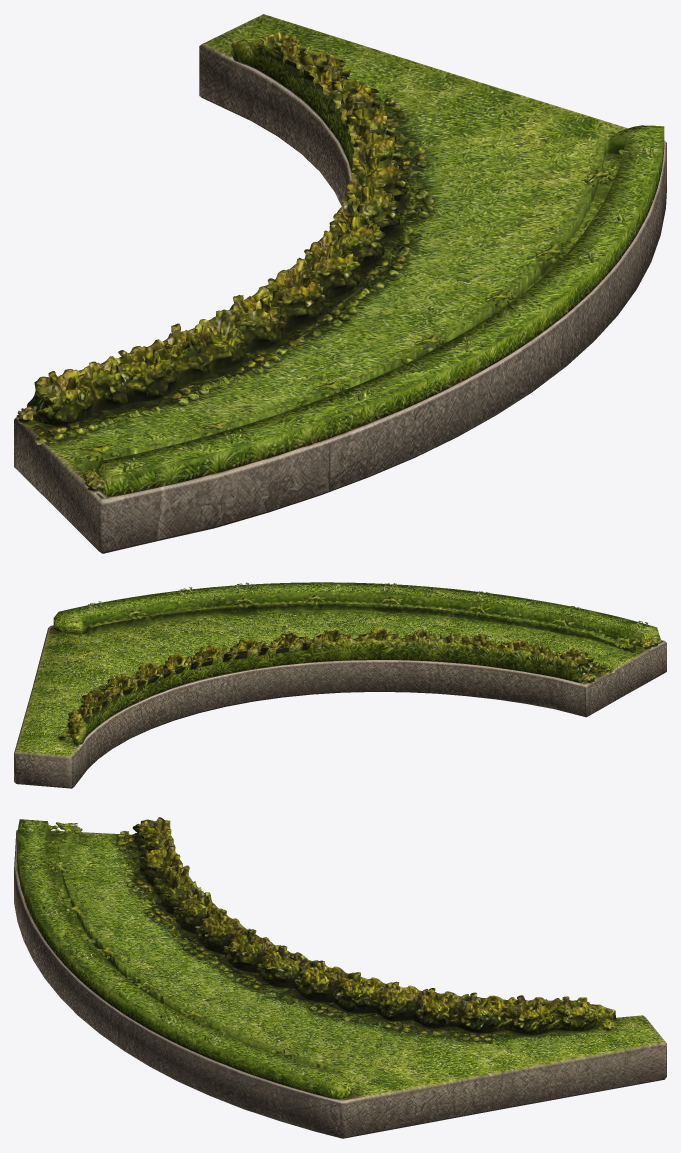
Rendered from grass_2.glb.
The picture shows the model from 3 angles, top to bottom: view 1: azimuth 30°, elevation 25°; view 2: azimuth 150°, elevation 25°; view 3: azimuth 270°, elevation 25°; orthographic projection. The views are drawn at different scales.
Visible parts, largest first — view 1: tripo_node_42b77f09-3aa1-4912-b9b5-8b599d451f30; view 2: tripo_node_42b77f09-3aa1-4912-b9b5-8b599d451f30; view 3: tripo_node_42b77f09-3aa1-4912-b9b5-8b599d451f30.
Part boxes in pixels (x1,y1,x2,y2): tripo_node_42b77f09-3aa1-4912-b9b5-8b599d451f30: [14, 14, 666, 553]; tripo_node_42b77f09-3aa1-4912-b9b5-8b599d451f30: [14, 582, 666, 788]; tripo_node_42b77f09-3aa1-4912-b9b5-8b599d451f30: [14, 817, 666, 1138].
Size of the model in its own units: 0.9927 by 0.1118 by 0.9995.
1 material, 1 textured.
